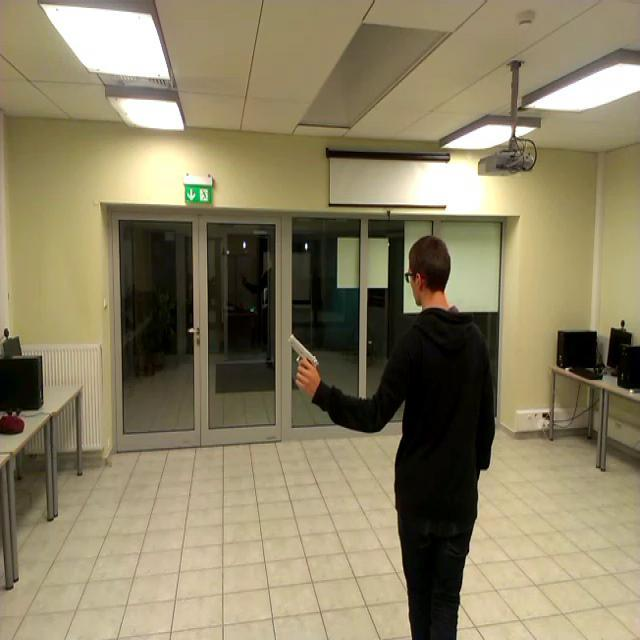Gun: (288, 333, 320, 384)
